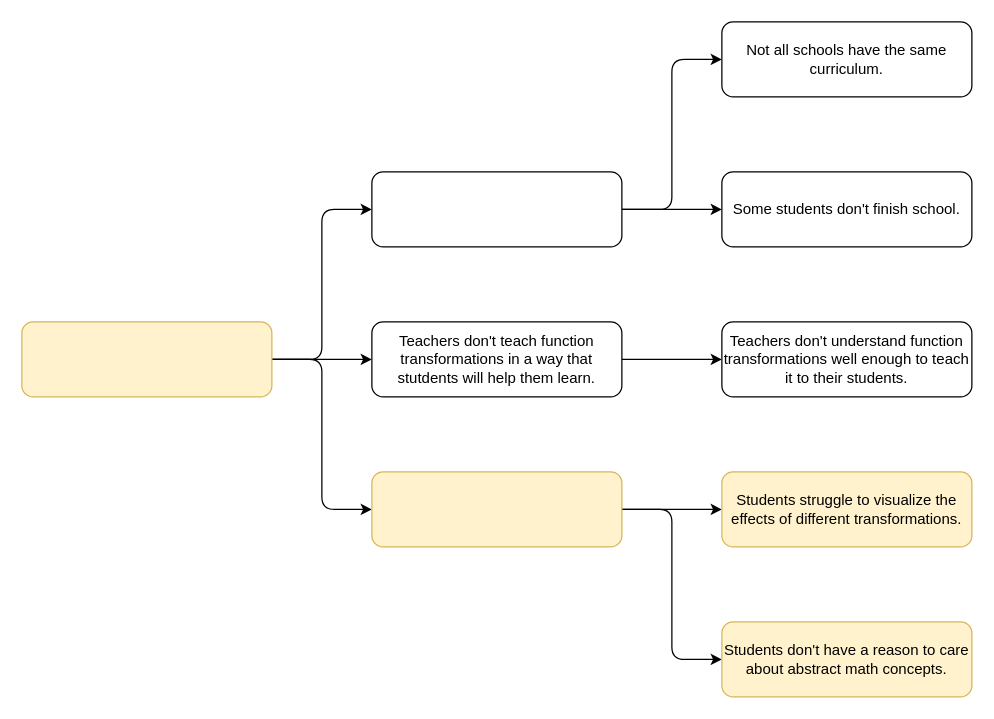
Image size: 994x719. Some labels were removed from this diagram. The centre of each missing label's shape, as x and y in pixels:
"Students don't see the applications of function transformations." belongs at pixel 496 509.
"Students never learned about function transformations" belongs at pixel 496 209.
"Students struggle to understand function transformations" belongs at pixel 146 359.
